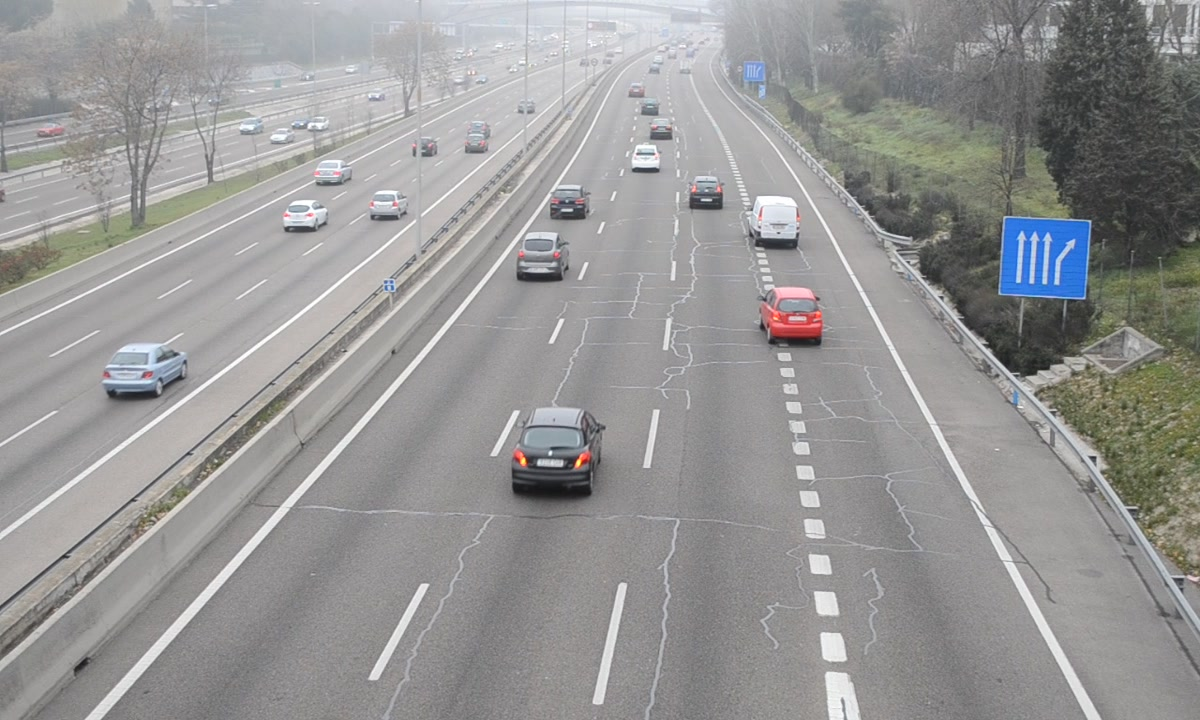car: (512, 408, 599, 493), (762, 285, 823, 343), (516, 232, 566, 276), (549, 186, 590, 221), (688, 175, 725, 209), (629, 141, 663, 172), (651, 114, 670, 139)
van: (750, 194, 801, 246)
